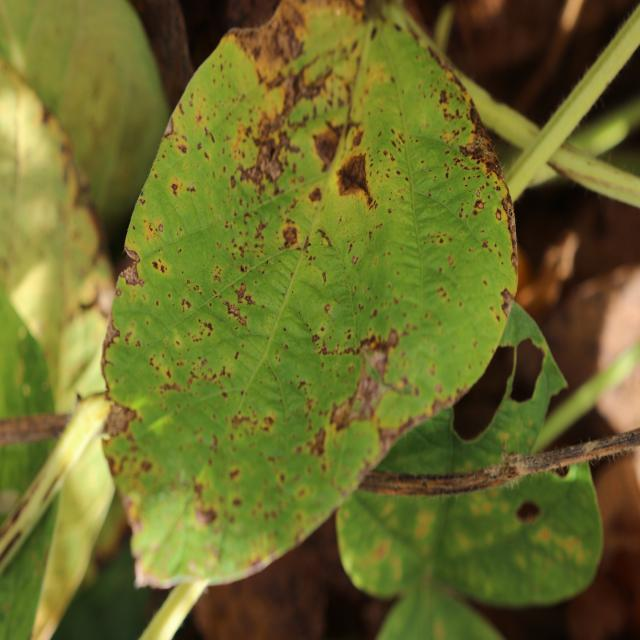Bacterial_Blight: (364, 358, 466, 456), (325, 422, 379, 495), (509, 335, 549, 401), (336, 153, 377, 211), (347, 369, 386, 425), (266, 13, 306, 66), (250, 137, 284, 186), (100, 298, 124, 363), (102, 401, 137, 438), (229, 406, 268, 435), (360, 0, 395, 28), (119, 257, 145, 288), (458, 138, 491, 160), (307, 424, 327, 458), (222, 299, 248, 325), (331, 400, 352, 431), (515, 500, 542, 524), (499, 286, 516, 321), (414, 511, 435, 539), (193, 503, 216, 527), (76, 287, 98, 312), (281, 224, 299, 248), (252, 219, 269, 241), (314, 229, 333, 248), (151, 257, 169, 275), (385, 328, 399, 349), (554, 463, 571, 478), (308, 186, 322, 204), (163, 116, 174, 136), (501, 197, 512, 217), (438, 89, 449, 104), (473, 198, 485, 211), (181, 298, 192, 312), (229, 467, 240, 481), (511, 251, 519, 270), (206, 128, 215, 144), (170, 182, 179, 196), (203, 321, 213, 332), (311, 333, 320, 343), (187, 183, 196, 193), (446, 255, 454, 266), (213, 272, 221, 283), (75, 391, 83, 402), (495, 208, 502, 220), (178, 144, 187, 153), (230, 175, 236, 188), (351, 255, 358, 265), (475, 188, 482, 198), (115, 287, 122, 297), (324, 303, 330, 314), (240, 264, 247, 273), (322, 272, 327, 283), (234, 351, 240, 360), (158, 223, 163, 232), (139, 198, 145, 205), (445, 171, 450, 179)
Soybean: (102, 2, 517, 587)
